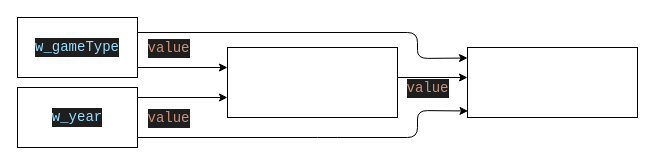
Some shapes in this 655 by 165 pixel diagram are drawn without their labels. The shapes that lost their labels are listed below. From the top down, each one's centre as x and y in pixels, then its label:
At pixel 312 82: "w_game_id update w_game_id . max".
At pixel 552 82: "w_events update w_events.max".
